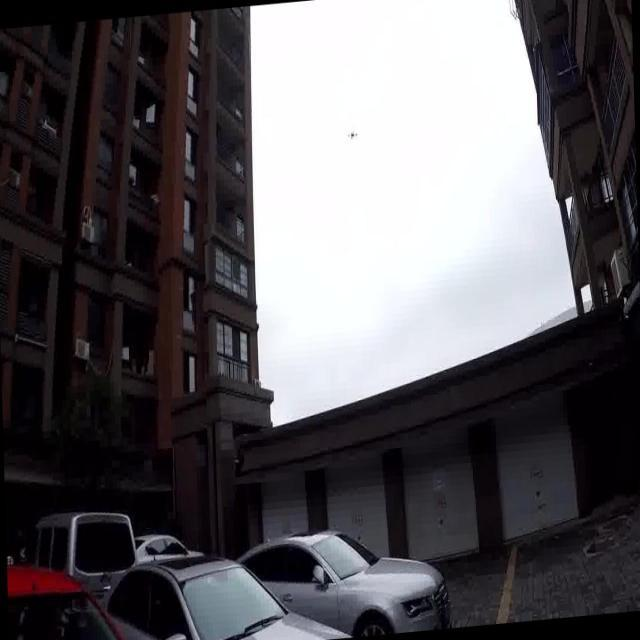drone: (346, 124, 359, 146)
